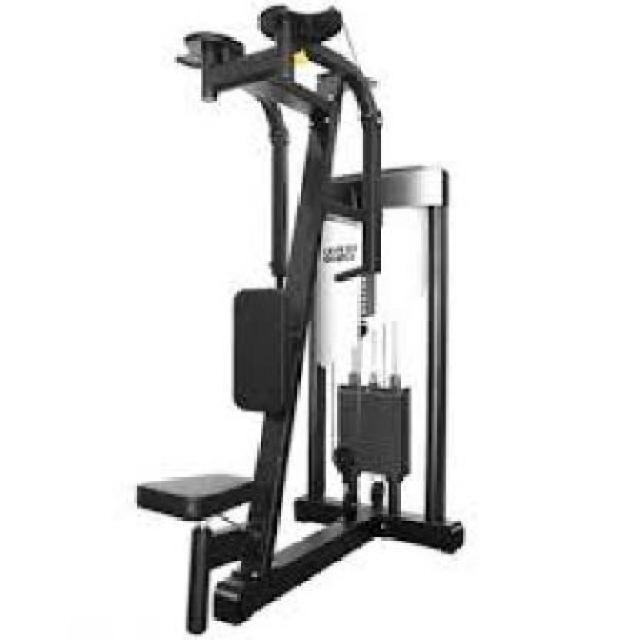chest fly machine: (136, 3, 463, 634)
